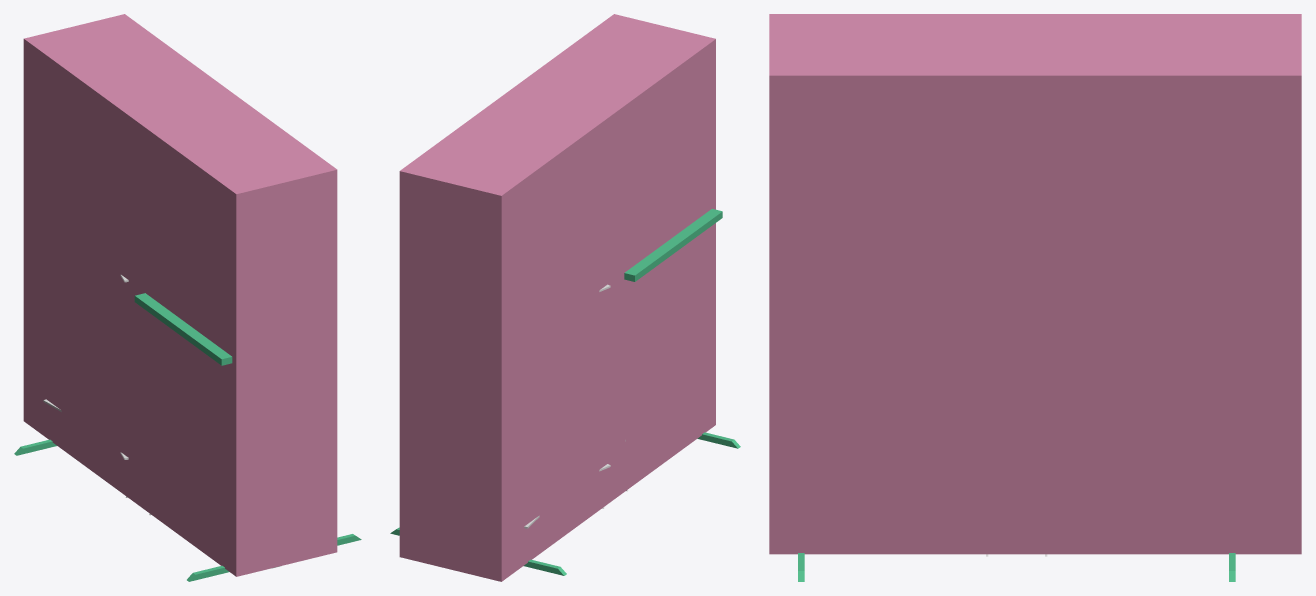
The model's file is ind_obj_03_a.dae.
3 views of the same model, side by side, from view 1: azimuth 30°, elevation 25°; view 2: azimuth 150°, elevation 25°; view 3: azimuth 270°, elevation 25° (orthographic). The views are drawn at different scales.
Visible parts, largest first — view 1: Untitled, Colmesh-1; view 2: Untitled, Colmesh-1; view 3: Untitled.
Boxes of the visible parts, x1,y1,x2,y2 form: Untitled: (23,14,337,576); Colmesh-1: (14,293,361,581); Untitled: (399,14,715,581); Colmesh-1: (390,209,740,575); Untitled: (769,14,1301,554).
Size of the model in its own units: 2.96 by 6.31 by 6.43.
